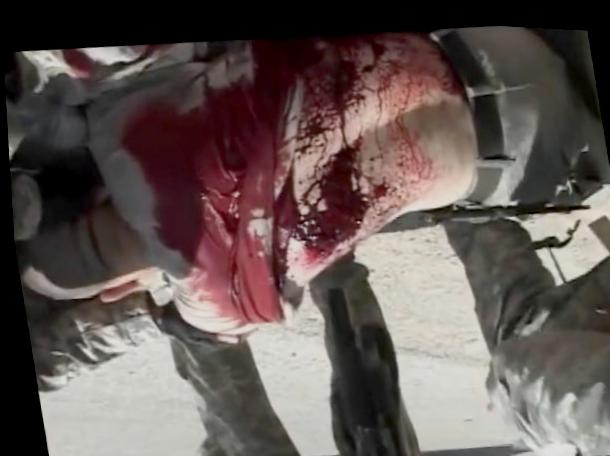Fire: (126, 27, 460, 328), (59, 46, 95, 76)
